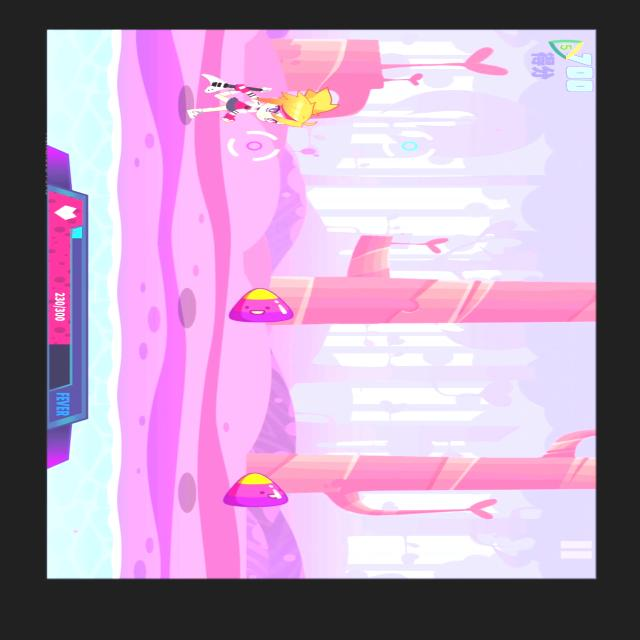Ground Monster - Red Bullet: (212, 276, 306, 336), (211, 460, 293, 512)
